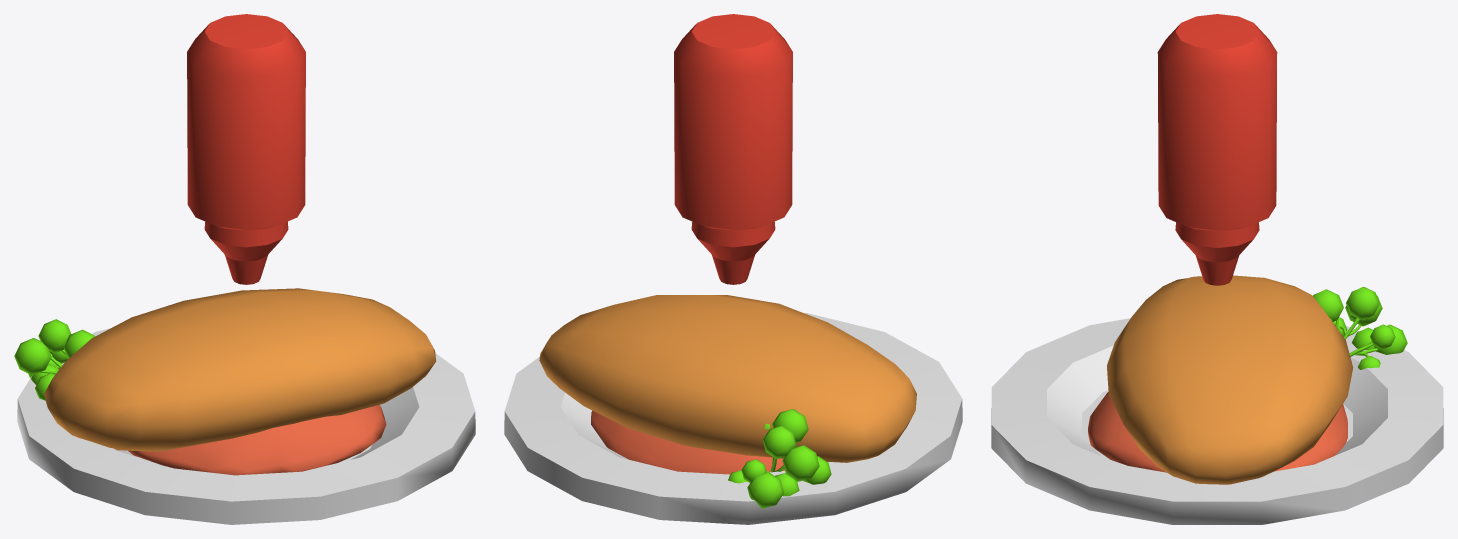
The model's file is omu.fbx.
3 views of the same model, side by side, from view 1: azimuth 30°, elevation 25°; view 2: azimuth 150°, elevation 25°; view 3: azimuth 270°, elevation 25° (orthographic).
Visible parts, largest first — view 1: egg, plate, ketchup, Rice, parsley; view 2: egg, plate, ketchup, parsley, Rice; view 3: plate, egg, ketchup, Rice, parsley.
Part boxes in pixels (<box>): egg: <box>44,288,436,451</box>; plate: <box>17,328,475,524</box>; ketchup: <box>187,14,305,284</box>; Rice: <box>128,404,386,475</box>; parsley: <box>14,319,95,400</box>; egg: <box>539,295,916,462</box>; plate: <box>504,313,962,524</box>; ketchup: <box>674,14,792,284</box>; parsley: <box>728,409,831,508</box>; Rice: <box>591,410,784,474</box>; plate: <box>991,318,1443,524</box>; egg: <box>1107,275,1353,484</box>; ketchup: <box>1157,14,1277,285</box>; Rice: <box>1088,392,1347,472</box>; parsley: <box>1313,287,1407,369</box>.
Size of the model in its own units: 135 by 140 by 135.
